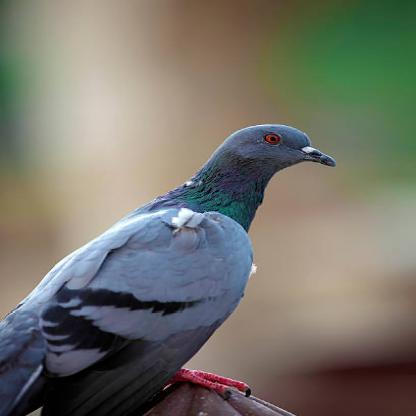Flying Rat: (2, 124, 338, 414)
